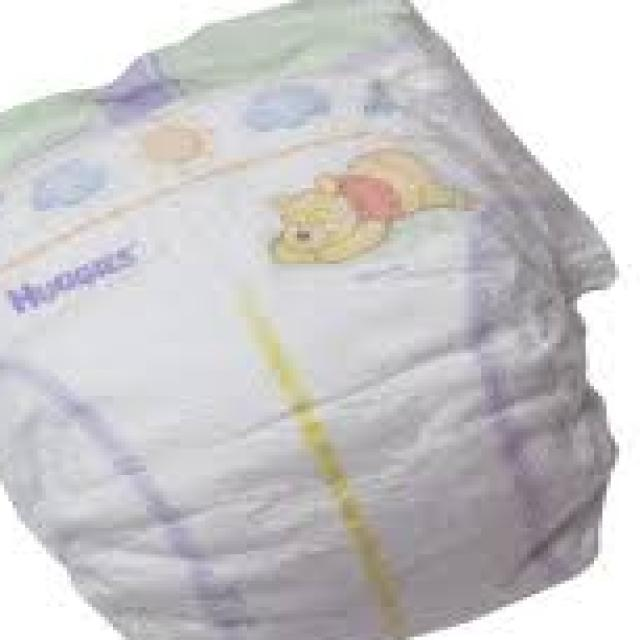organic: (11, 12, 618, 613)
